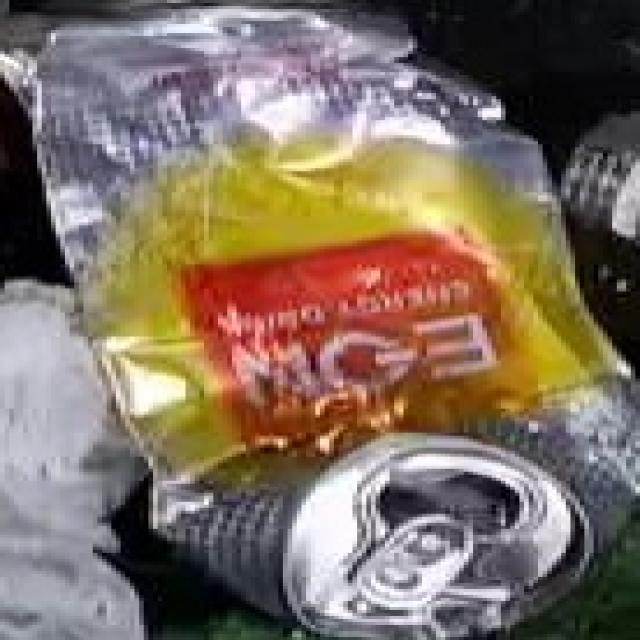litter: (23, 7, 640, 633)
